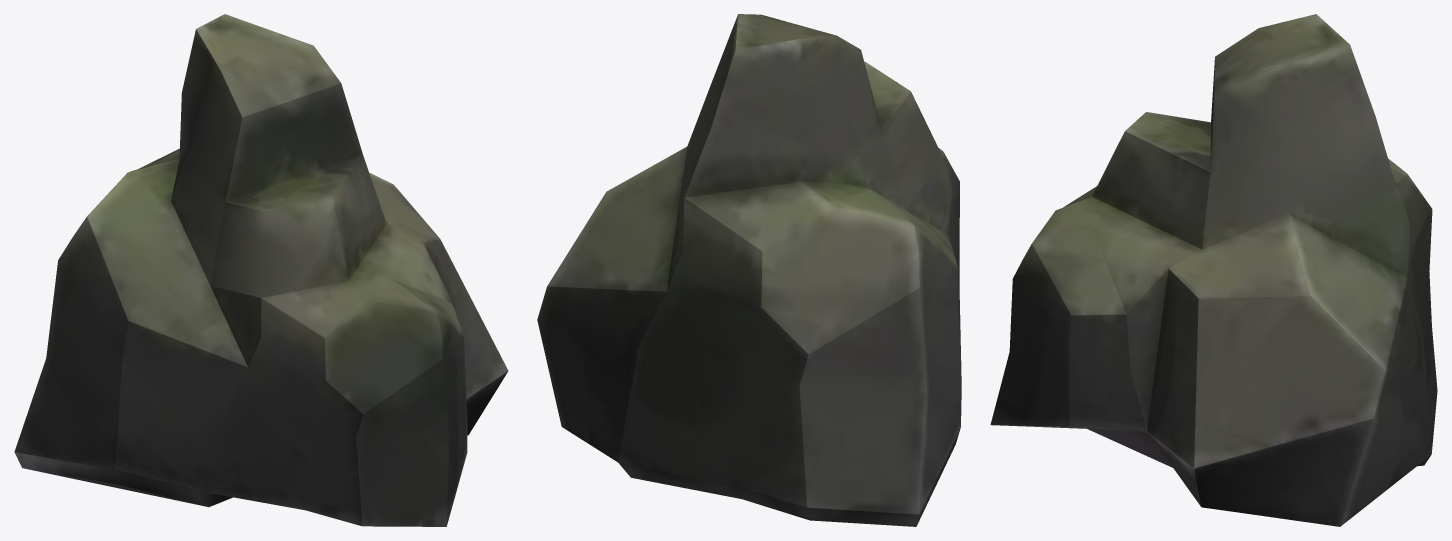
Rendered from rock_2.glb.
3 views of the same model, side by side, from view 1: azimuth 30°, elevation 25°; view 2: azimuth 150°, elevation 25°; view 3: azimuth 270°, elevation 25° (orthographic). The views are drawn at different scales.
Parts seen in each view (by area): view 1: Rock_2; view 2: Rock_2; view 3: Rock_2.
Boxes of the visible parts, left/top/right/bottom form: Rock_2: left=14, top=14, right=508, bottom=526; Rock_2: left=537, top=14, right=961, bottom=526; Rock_2: left=990, top=14, right=1437, bottom=526.
Bounding box in the file's own units: 1.05 × 1.12 × 1.08.
1 material, 1 textured.
